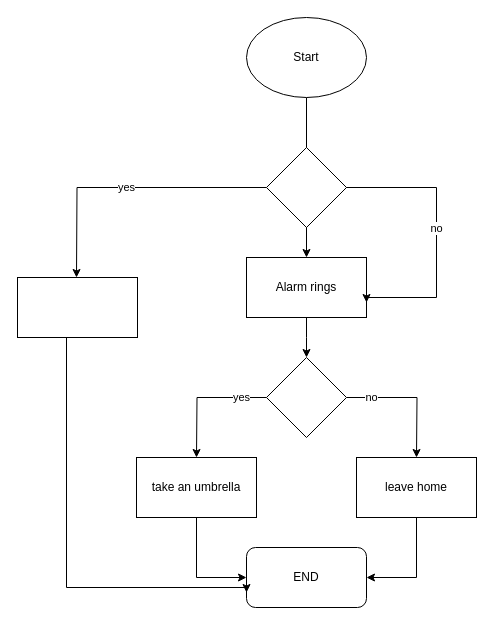
Some shapes in this 494 by 625 pixel diagram are drawn without their labels. The shapes that lost their labels are listed below. From the top down, each one's centre as x and y in pixels, then its label:
At [306,187]: "Is it weekend?".
At [77,307]: "no alarm".
At [306,397]: "Is it raining?".
